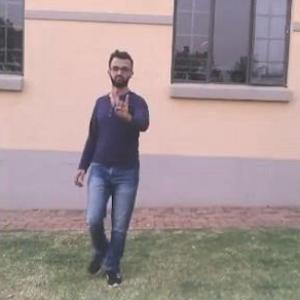takeoff-hand: (109, 92, 134, 118)
